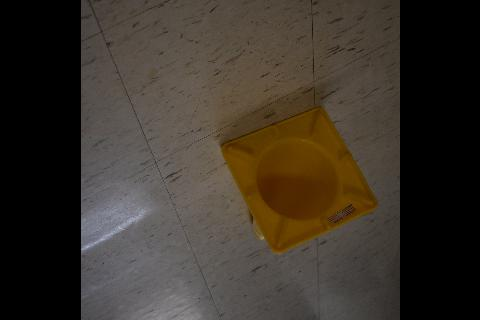cone: (220, 107, 378, 255)
